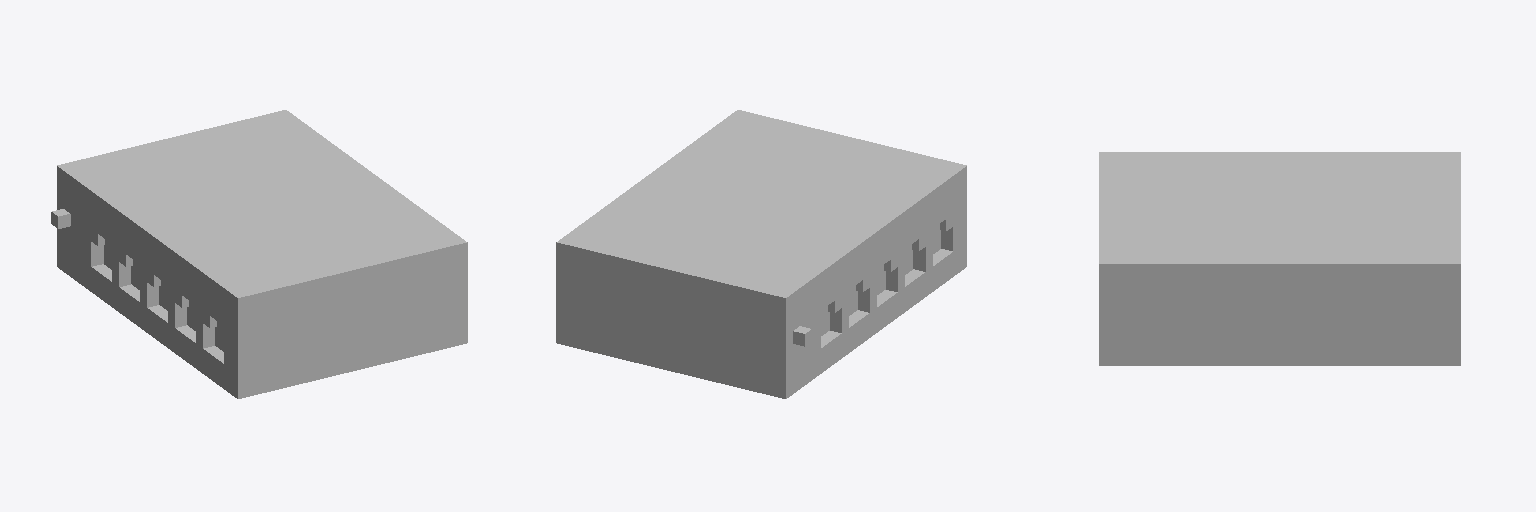
The model's file is network types-0-switch.obj.
3 renders of one model, left to right at view 1: azimuth 30°, elevation 25°; view 2: azimuth 150°, elevation 25°; view 3: azimuth 270°, elevation 25°, orthographic.
Visible parts, largest first — view 1: switch; view 2: switch; view 3: switch.
Boxes of the visible parts, x1,y1,x2,y2 form: switch: [51, 110, 467, 398]; switch: [556, 110, 966, 398]; switch: [1099, 152, 1460, 365].
Bounding box in the file's own units: 2 × 0.8 × 2.6.